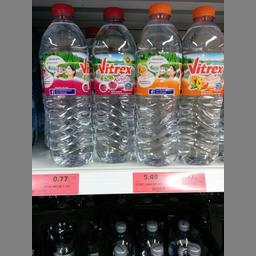water: (38, 4, 90, 166), (134, 2, 180, 166), (89, 6, 135, 164), (178, 4, 222, 164)
